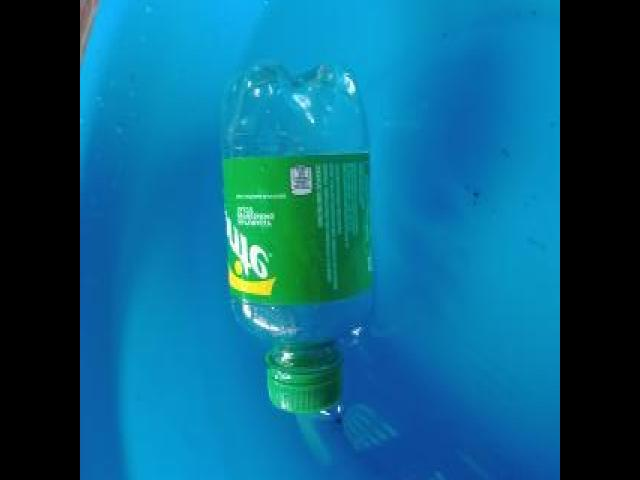Bottle: (211, 52, 385, 426)
